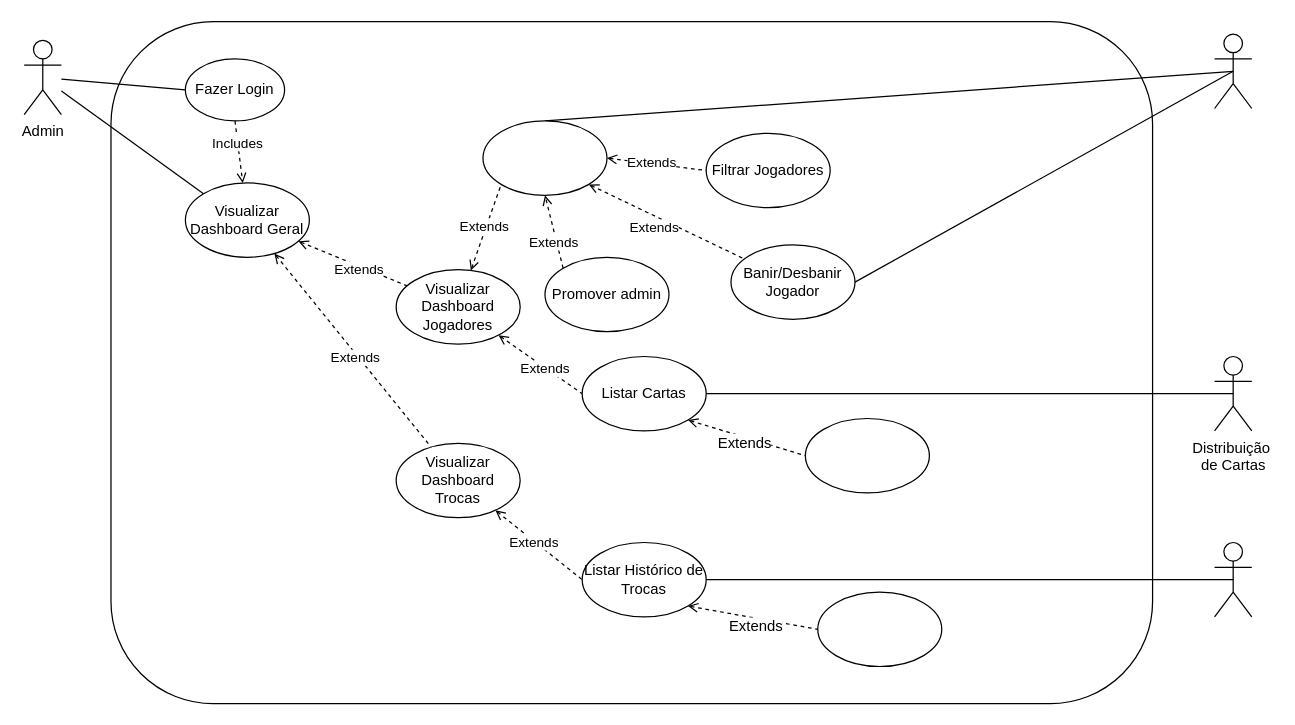
The diagram is 1295 pixels wide and 725 high, and some of its shapes have lost their labels. The shapes that lost their labels are listed below. From the top down, each one's centre as x and y in pixels, then its label:
point 1232,70: Users
point 544,157: Listar Jogadores
point 866,455: Filtrar Cartas
point 1232,579: Trocas
point 879,628: Filtrar Trocas
